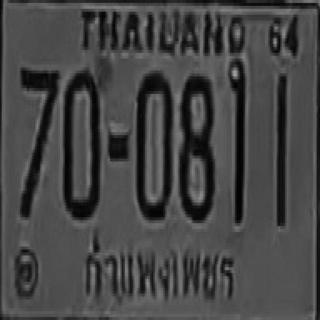N00: (62, 68, 99, 217), (135, 70, 172, 217)
N01: (229, 60, 246, 222), (231, 63, 244, 222), (275, 72, 287, 225)
N07: (18, 66, 58, 216)
N08: (178, 72, 213, 219)
P16: (78, 230, 246, 308)
